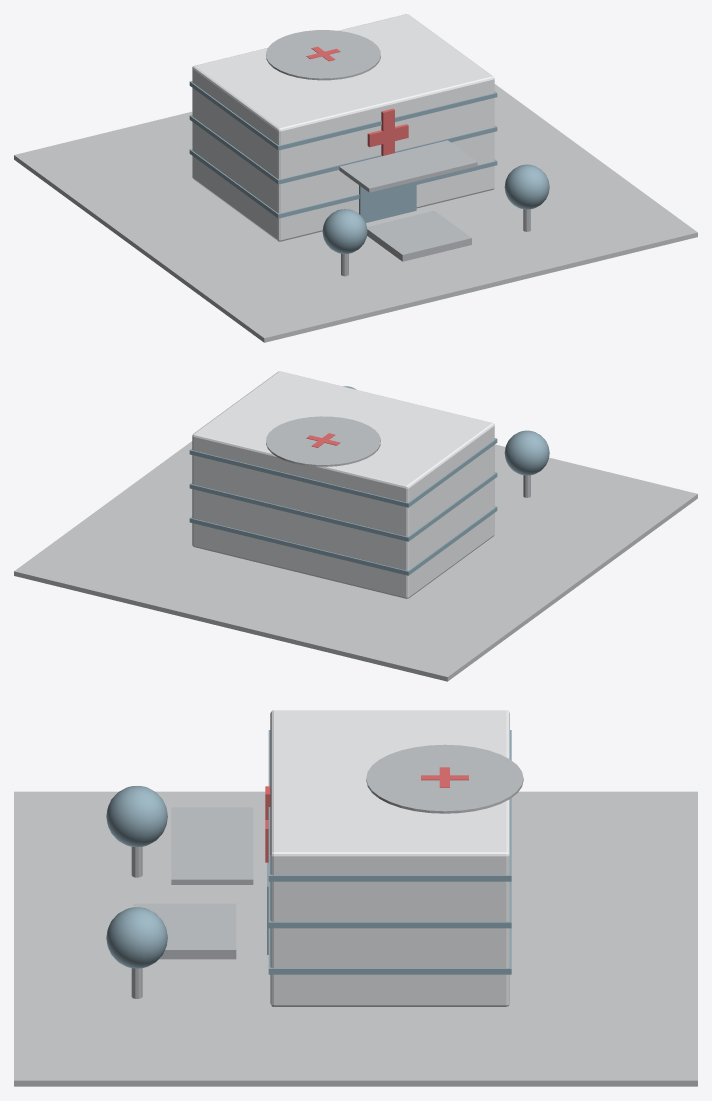
Rendered from medical.glb.
The picture shows the model from 3 angles, top to bottom: view 1: azimuth 30°, elevation 25°; view 2: azimuth 150°, elevation 25°; view 3: azimuth 270°, elevation 25°; orthographic projection. The views are drawn at different scales.
Visible parts, largest first — view 1: Ground, Hospital, Helipad, Entrance, Ramp, Door, Band2, TreeCrown0, TreeCrown1, Band0, Band1, CrossV; view 2: Ground, Hospital, Helipad, Band0, Band1, Band2, TreeCrown0; view 3: Ground, Hospital, Helipad, Entrance, Ramp, TreeCrown1, TreeCrown0, Band2, Band1, Band0.
Boxes of the visible parts, x1,y1,x2,y2 form: Ground: [14, 84, 697, 342]; Hospital: [192, 14, 494, 241]; Helipad: [266, 30, 380, 80]; Entrance: [339, 140, 477, 192]; Ramp: [367, 210, 471, 261]; Door: [359, 181, 416, 222]; Band2: [189, 81, 497, 150]; TreeCrown0: [322, 209, 367, 253]; TreeCrown1: [504, 164, 549, 209]; Band0: [189, 149, 497, 218]; Band1: [189, 115, 497, 184]; CrossV: [381, 108, 394, 155]; Ground: [14, 441, 697, 681]; Hospital: [192, 371, 494, 598]; Helipad: [266, 416, 380, 466]; Band0: [189, 506, 497, 575]; Band1: [189, 472, 497, 541]; Band2: [189, 438, 497, 507]; TreeCrown0: [504, 430, 549, 475]; Ground: [14, 791, 697, 1086]; Hospital: [270, 710, 509, 1006]; Helipad: [366, 744, 523, 813]; Entrance: [171, 807, 253, 884]; Ramp: [133, 903, 236, 959]; TreeCrown1: [106, 907, 167, 968]; TreeCrown0: [106, 786, 167, 846]; Band2: [268, 730, 511, 881]; Band1: [268, 881, 511, 928]; Band0: [268, 928, 511, 974].
Bounding box in the file's own units: 20 × 5.32 × 20.
